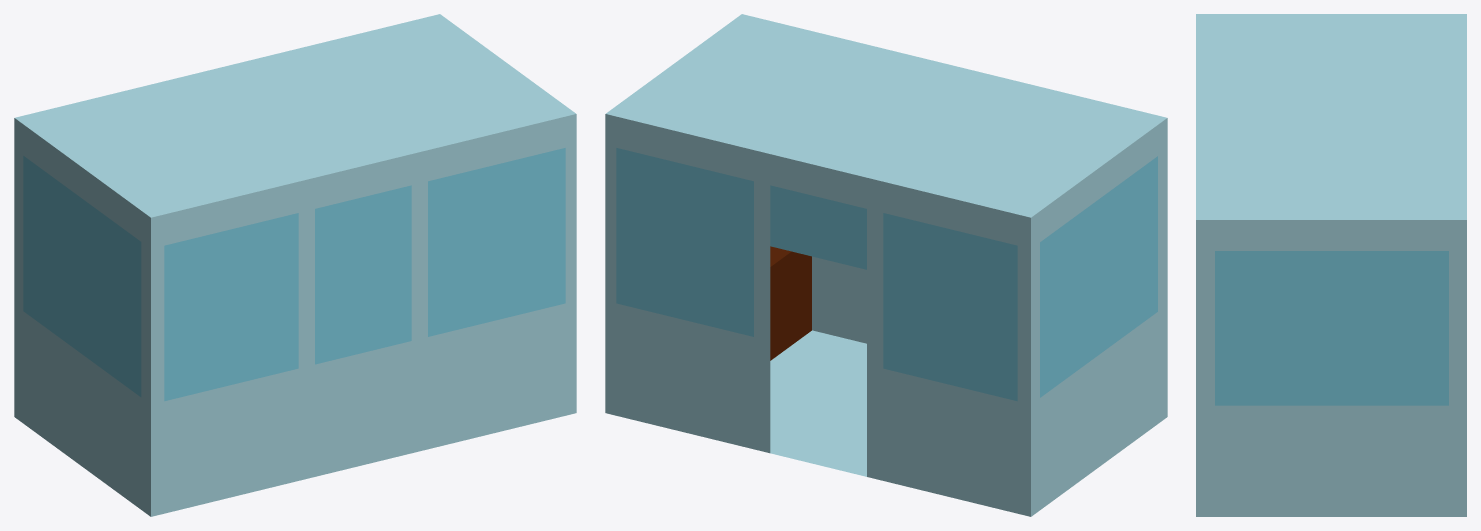
File: tienda.fbx
The picture shows the model from 3 angles, left to right: view 1: azimuth 30°, elevation 25°; view 2: azimuth 150°, elevation 25°; view 3: azimuth 270°, elevation 25°; orthographic projection.
Parts seen in each view (by area): view 1: Cube; view 2: Cube, Cube.001; view 3: Cube.
Boxes of the visible parts, bbox=[...] form: Cube: bbox=[14, 14, 576, 516]; Cube: bbox=[605, 14, 1167, 516]; Cube.001: bbox=[770, 246, 811, 360]; Cube: bbox=[1196, 14, 1466, 516].
Bounding box in the file's own units: 595 × 400 × 331.
